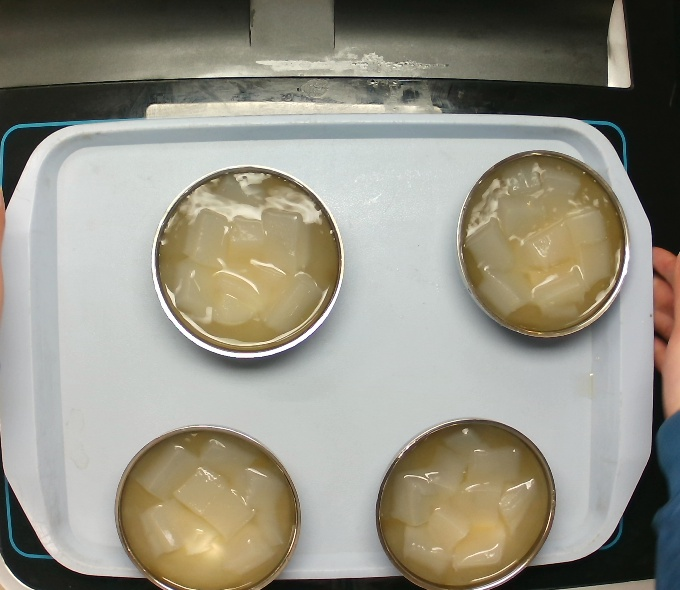wcq-YeGuoLi: (144, 164, 359, 367), (457, 140, 627, 346), (108, 417, 304, 589), (378, 415, 553, 587)
